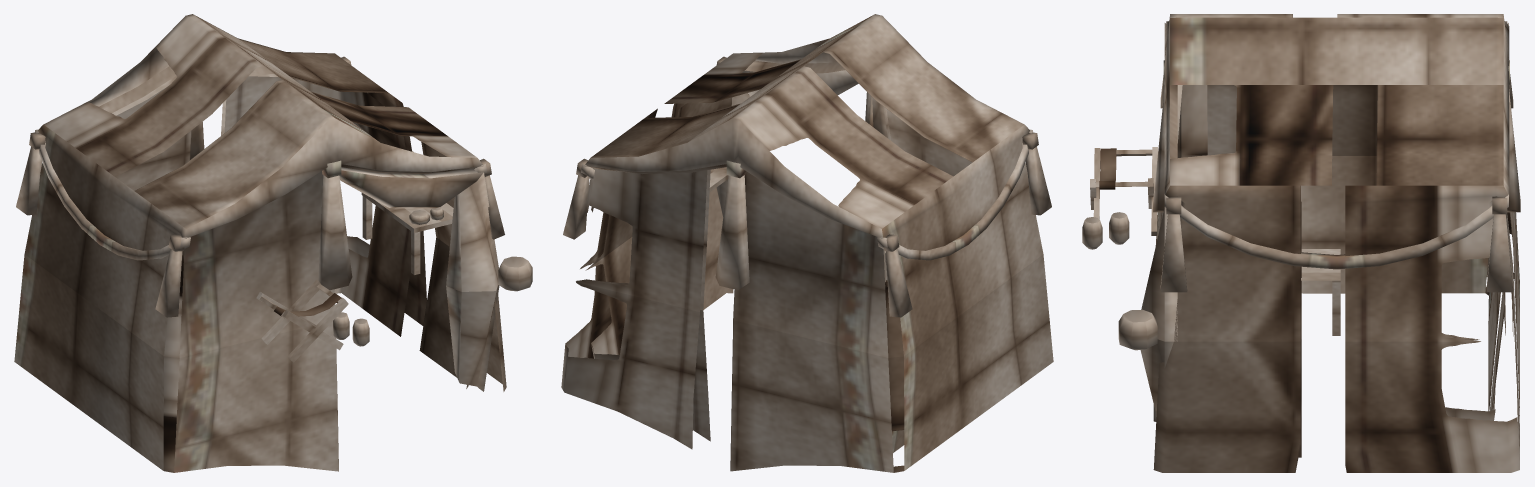
File: tent_mod.dae
3 views of the same model, side by side, from view 1: azimuth 30°, elevation 25°; view 2: azimuth 150°, elevation 25°; view 3: azimuth 270°, elevation 25° (orthographic). The views are drawn at different scales.
Visible parts, largest first — view 1: Cube_000; view 2: Cube_000; view 3: Cube_000.
Part boxes in pixels (bbox=[...]): Cube_000: bbox=[14, 14, 532, 472]; Cube_000: bbox=[561, 14, 1053, 472]; Cube_000: bbox=[1082, 14, 1520, 472].
Size of the model in its own units: 8.55 by 7.81 by 7.99.
